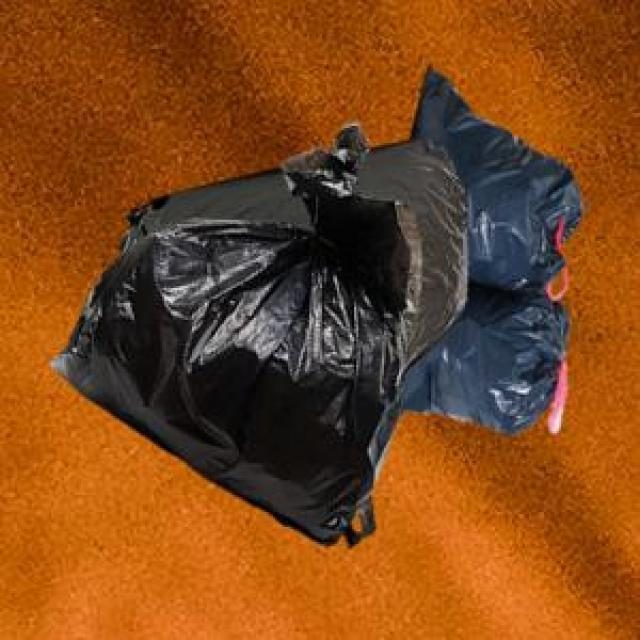Vinyl: (54, 71, 579, 542)
